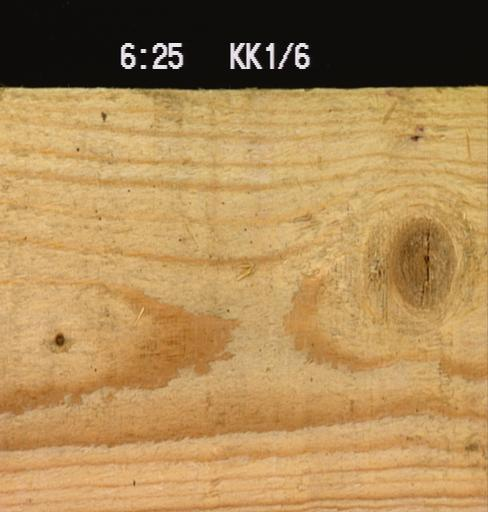small_knot: (49, 329, 69, 348)
sound_knot: (378, 211, 464, 316)
